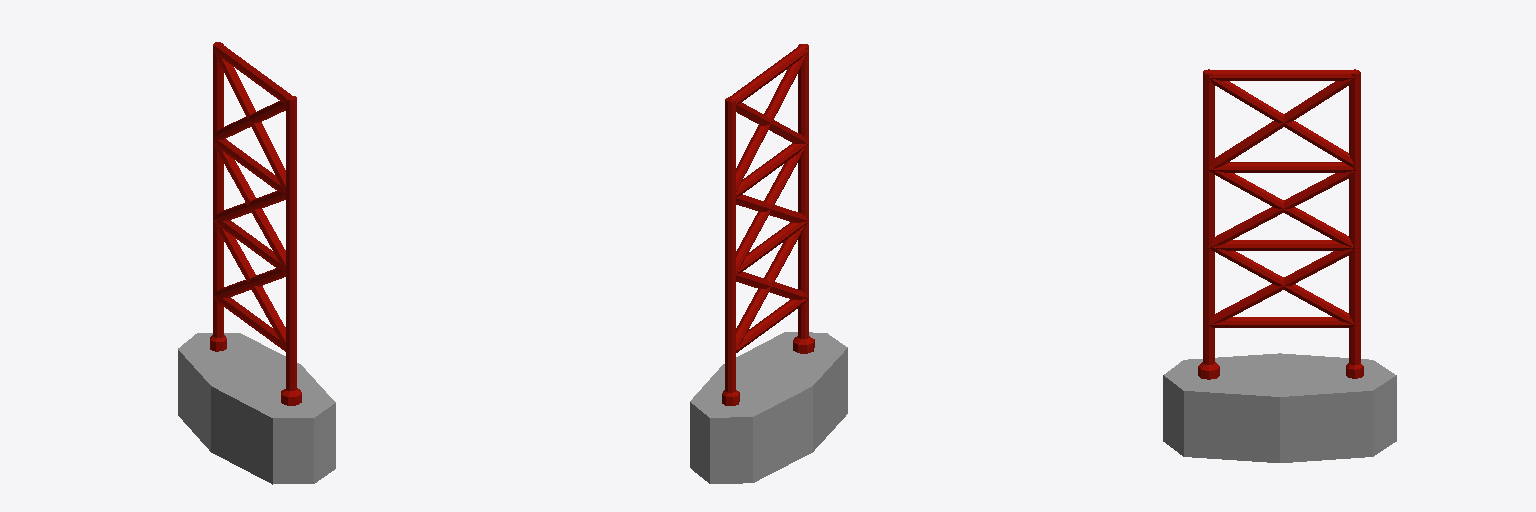
File: suspensionbridgepillar.obj
The picture shows the model from 3 angles: view 1: azimuth 30°, elevation 25°; view 2: azimuth 150°, elevation 25°; view 3: azimuth 270°, elevation 25°; orthographic projection.
Parts seen in each view (by area): view 1: Cylinder.001; view 2: Cylinder.001; view 3: Cylinder.001.
Boxes of the visible parts, x1=… form: Cylinder.001: x1=178, y1=42, x2=335, y2=484; Cylinder.001: x1=690, y1=44, x2=847, y2=483; Cylinder.001: x1=1163, y1=69, x2=1396, y2=462.
Bounding box in the file's own units: 2.84 × 11.23 × 6.39.